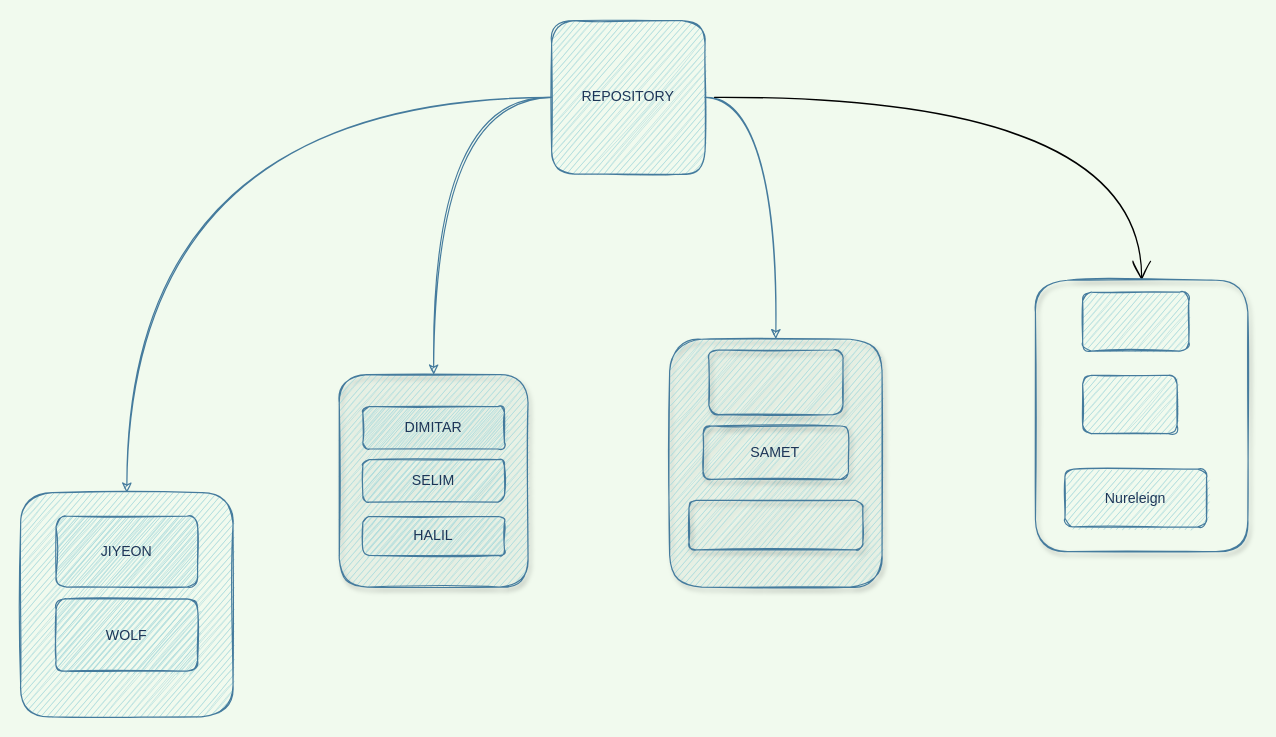
Image size: 1276x737. Some labels were removed from this diagram. Each missing label, with the centre of its shape:
"IRINA" belongs at pixel 776 526.
"Robin" belongs at pixel 1135 321.
"SAMIR" belongs at pixel 776 383.
"Volkan" belongs at pixel 1129 404.
